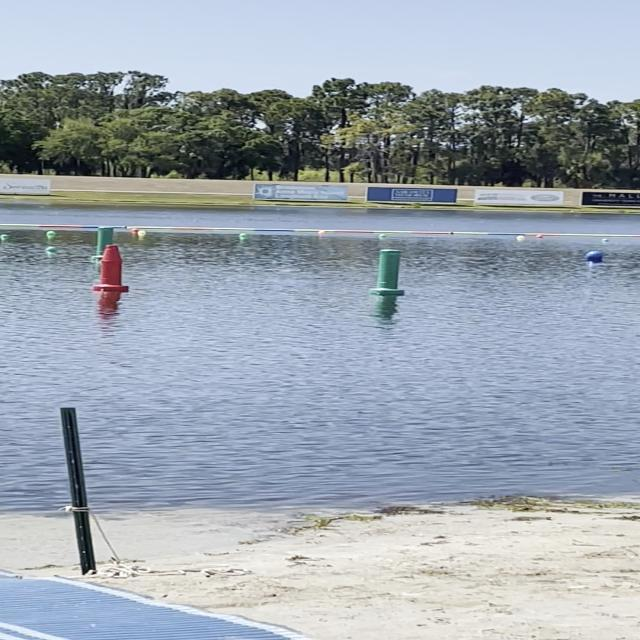buoy: (586, 250, 604, 262), (44, 230, 58, 237), (45, 246, 58, 253), (514, 234, 528, 240), (0, 233, 11, 240), (317, 230, 328, 236), (137, 230, 147, 236), (238, 233, 248, 238), (378, 233, 388, 238), (129, 228, 140, 232), (601, 238, 611, 242), (536, 234, 546, 238)
